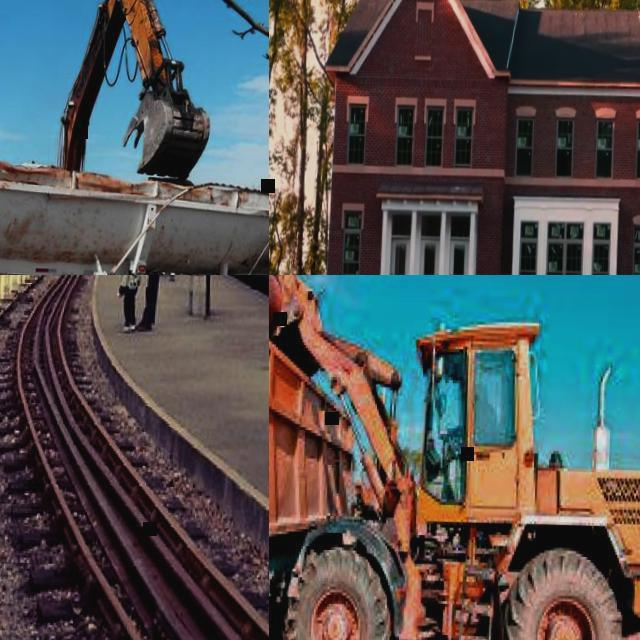machinery: (269, 275, 640, 640), (0, 0, 217, 275), (0, 136, 269, 275), (269, 275, 365, 640)
no_vest: (122, 275, 139, 289)
person: (450, 382, 496, 447), (118, 275, 168, 331), (117, 275, 143, 331)
